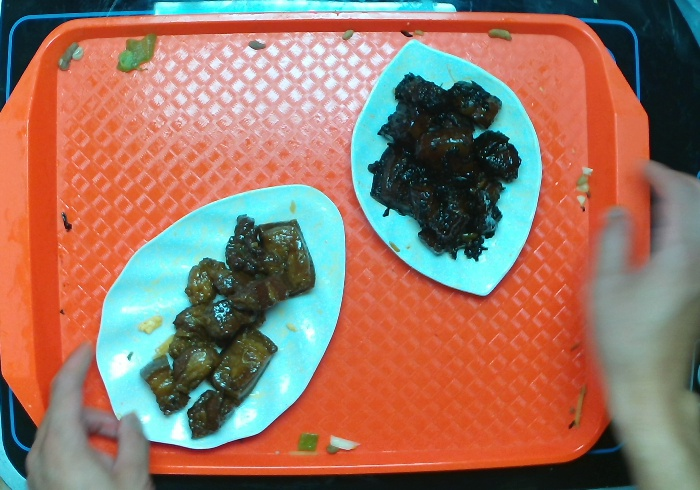RJxy-Bai_Ye_Pan: (90, 180, 351, 456)
RJxy-Da_Du_Pan: (347, 37, 548, 300)
